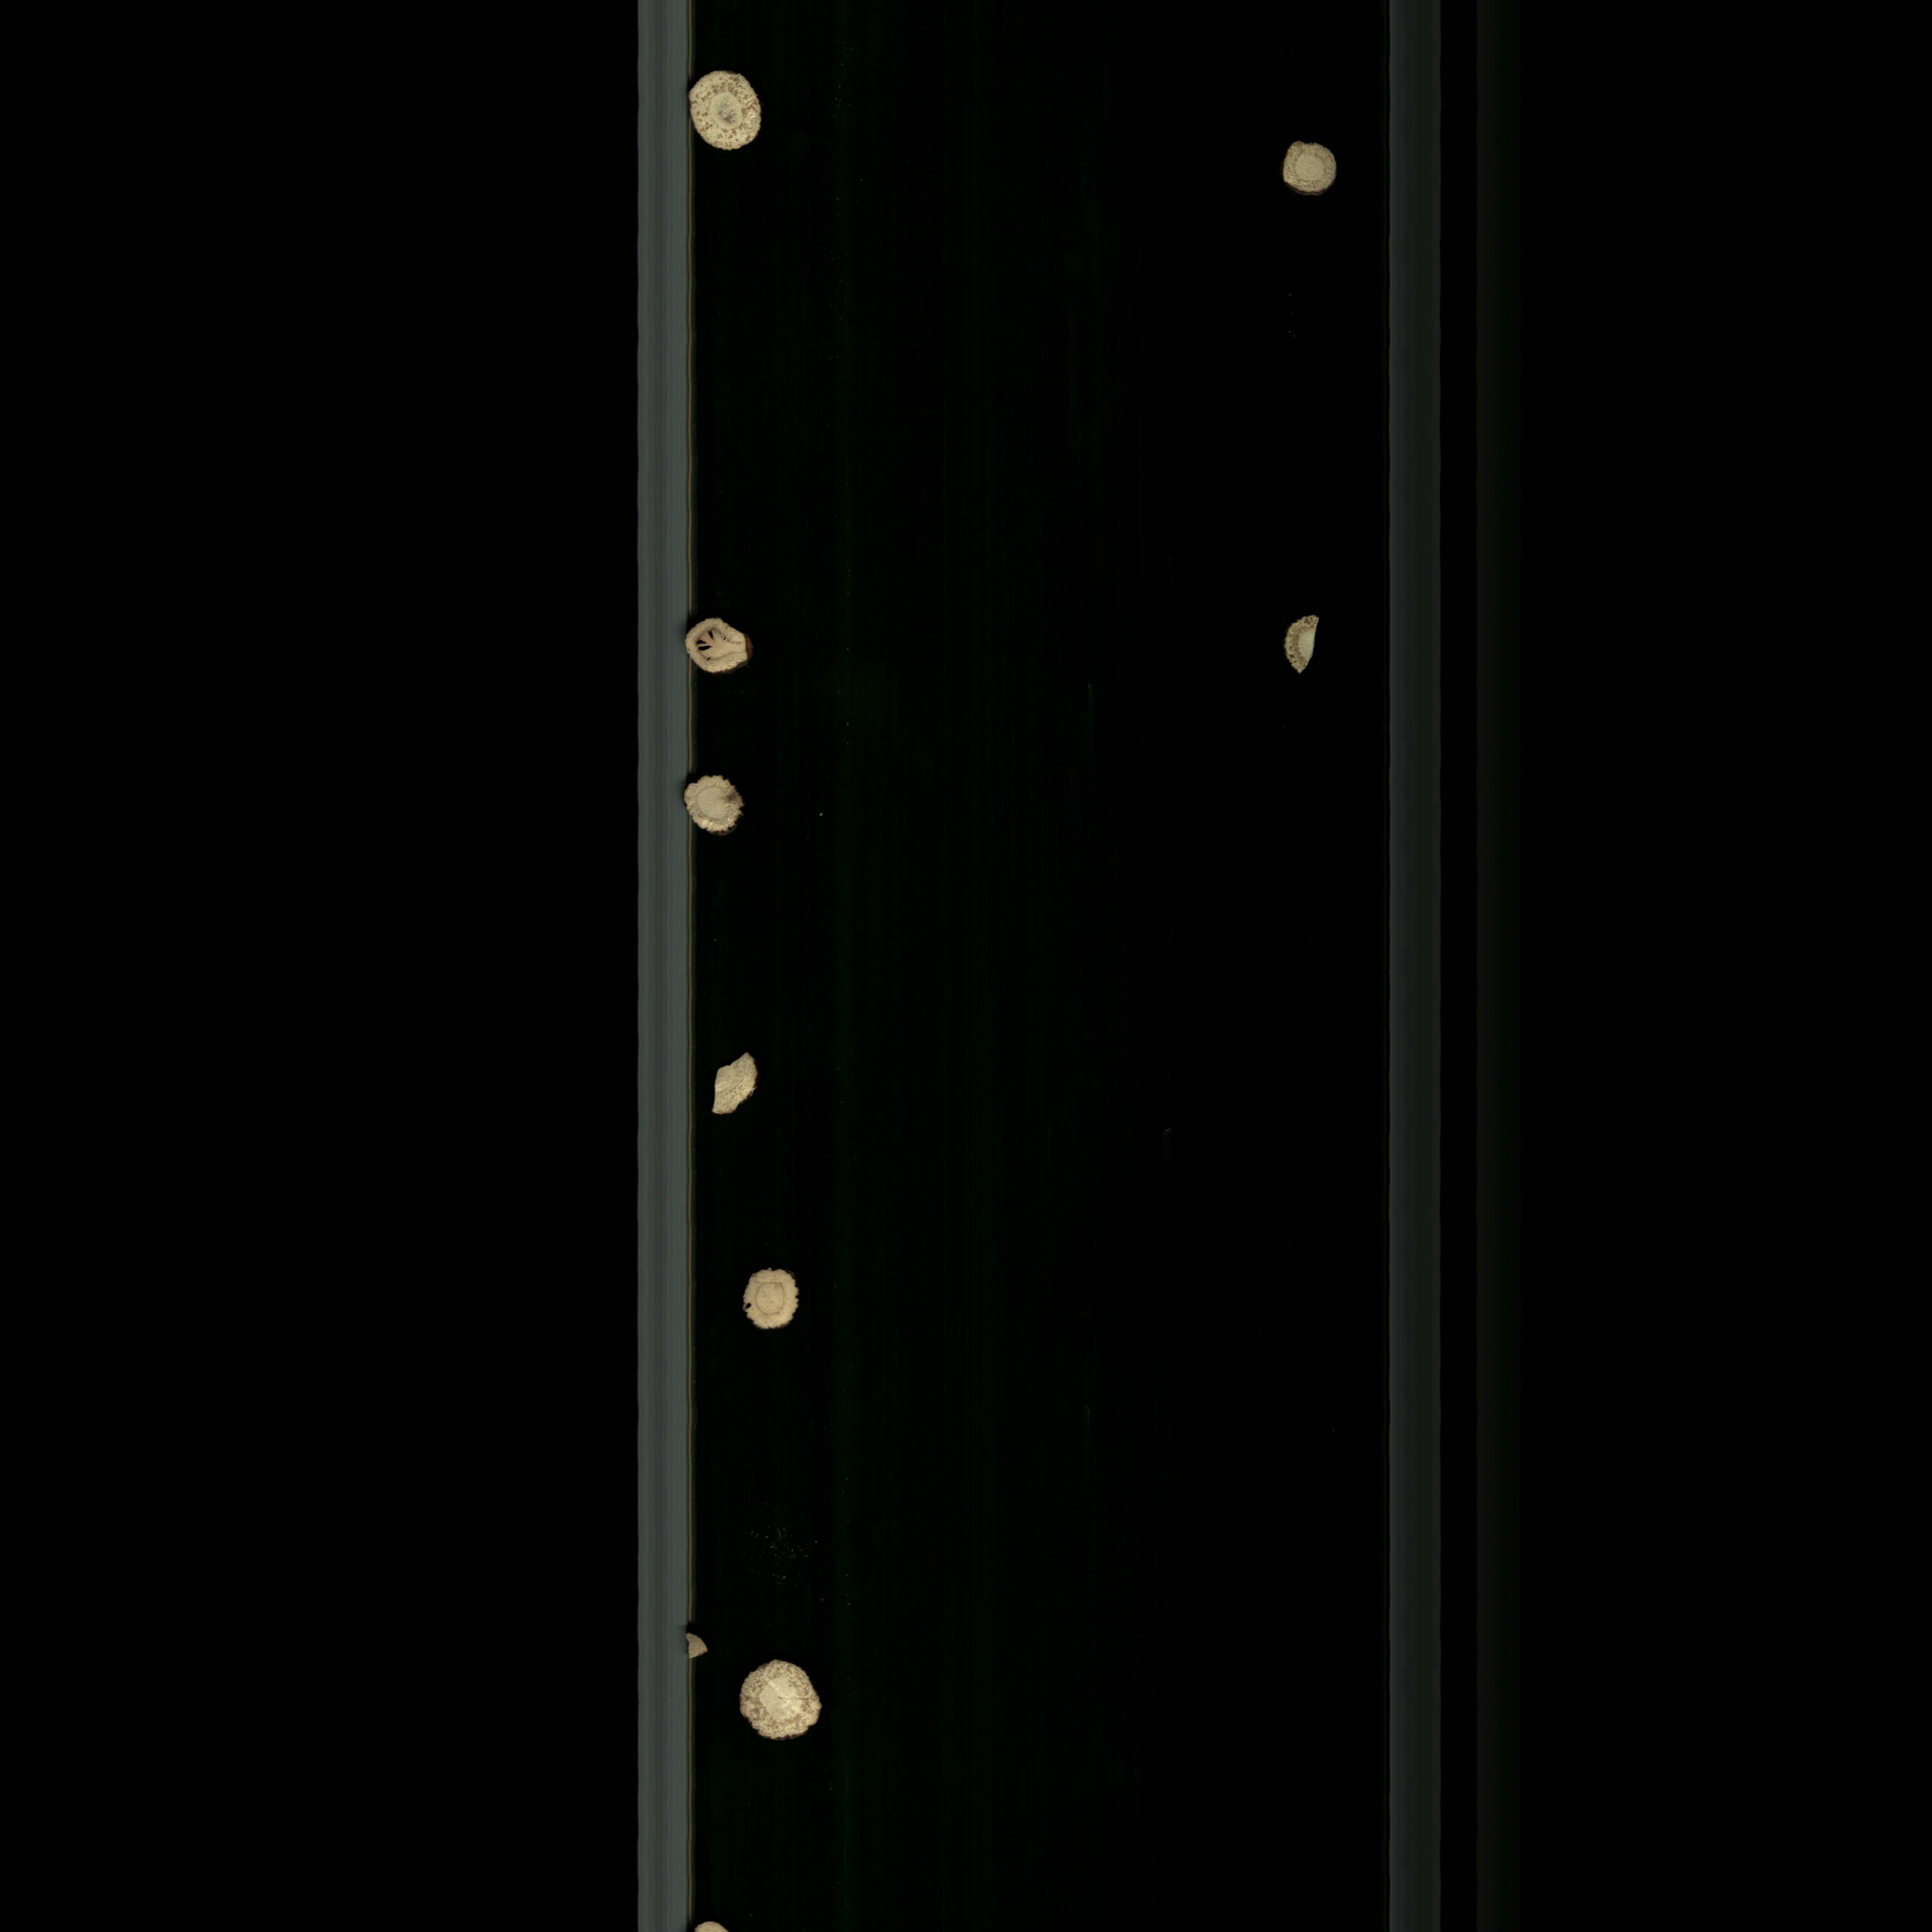debris: (695, 1047, 770, 1127)
distortion: (678, 1619, 718, 1672)
moldy: (732, 1654, 828, 1757), (676, 65, 764, 166), (679, 607, 770, 686), (729, 1260, 812, 1343), (1261, 129, 1343, 209), (1267, 602, 1325, 683)
